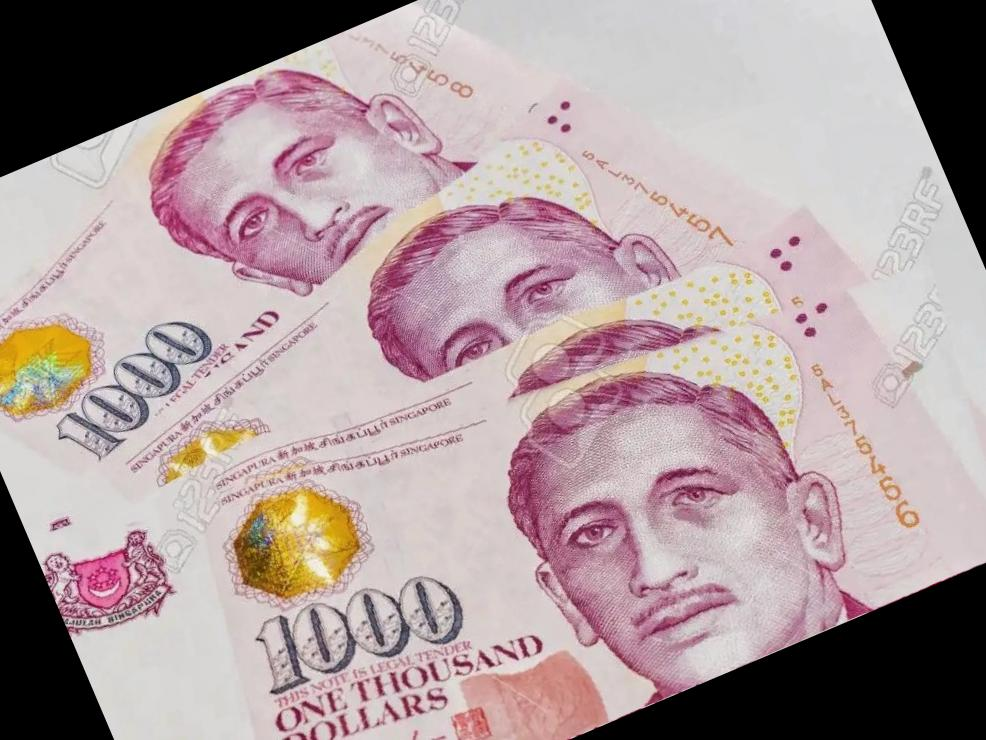1000SingaporeDollar: (35, 186, 986, 740)
